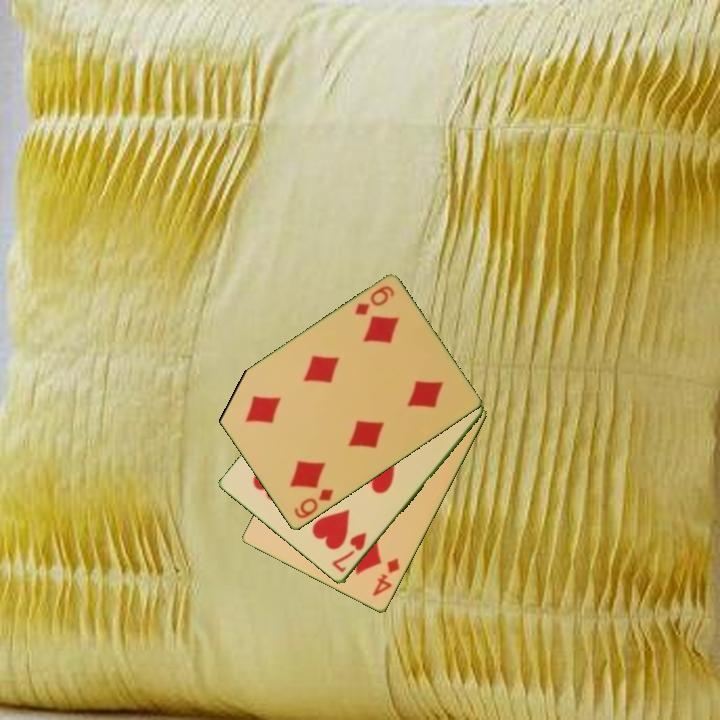4d: (369, 555, 403, 600)
6d: (290, 485, 336, 522), (351, 282, 397, 319)
7h: (328, 529, 369, 576)
